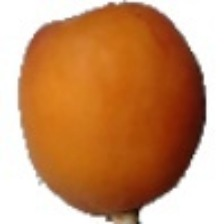apricot: (51, 13, 204, 172)
